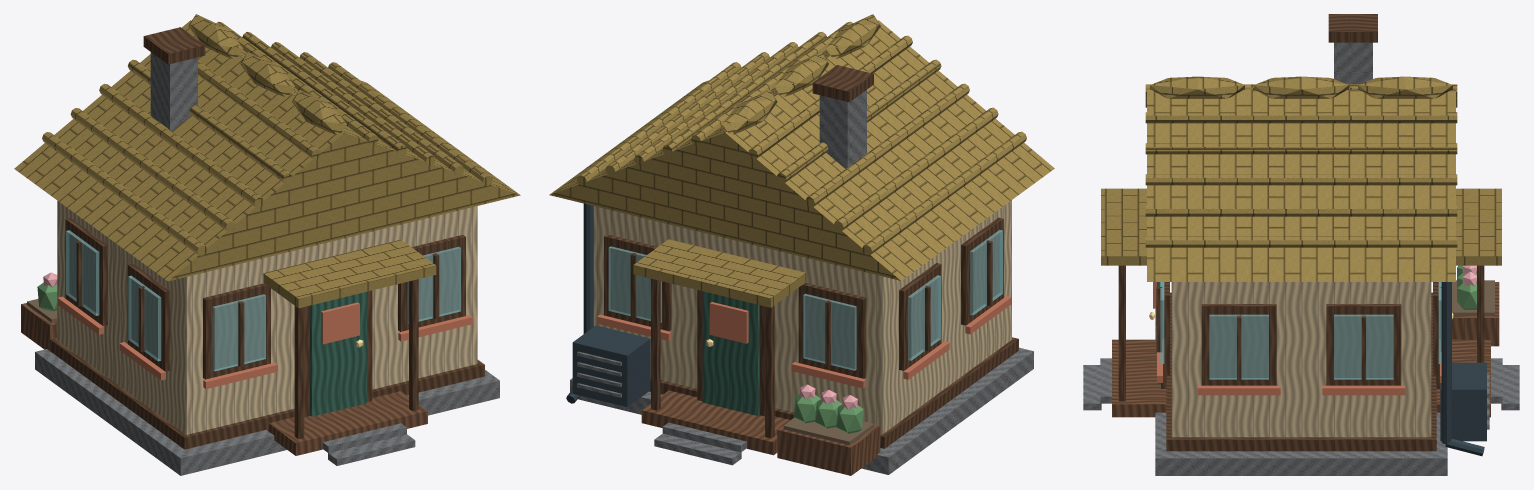
File: house_cottage_lv1.glb
The picture shows the model from 3 angles, left to right: view 1: azimuth 30°, elevation 25°; view 2: azimuth 150°, elevation 25°; view 3: azimuth 270°, elevation 25°; orthographic projection.
Parts seen in each view (by area): view 1: gable_roof, walls, foundation, front_porch_canopy, floor_trim, front_door, front_window_frame, front_deck, front_window_frame.001, front_window_glass, left_window_frame, chimney (+29 smaller); view 2: gable_roof, walls, back_porch_canopy, foundation, back_door, back_window_frame, back_ac_unit, back_deck, back_window_frame.001, back_garden_bed, back_window_glass, chimney (+35 smaller); view 3: gable_roof, walls, foundation, right_window_frame, right_window_frame.001, floor_trim, thatch_course.005, thatch_course.006, thatch_course.007, thatch_course.008, thatch_course.009, right_window_glass (+25 smaller).
Boxes of the visible parts, box(x1,y1,x2,y2) form: gable_roof: box(14, 20, 520, 281); walls: box(57, 201, 477, 434); foundation: box(35, 349, 499, 475); front_porch_canopy: box(263, 239, 436, 308); floor_trim: box(50, 338, 484, 449); front_door: box(310, 292, 366, 416); front_window_frame: box(203, 283, 270, 379); front_deck: box(267, 391, 427, 455); front_window_frame.001: box(398, 234, 465, 331); front_window_glass: box(212, 294, 265, 371); left_window_frame: box(127, 263, 170, 371); chimney: box(150, 52, 197, 130); gable_roof: box(549, 20, 1054, 280); walls: box(593, 200, 1011, 434); back_porch_canopy: box(633, 239, 806, 307); foundation: box(570, 347, 1033, 474); back_door: box(702, 291, 759, 415); back_window_frame: box(798, 283, 866, 378); back_ac_unit: box(572, 325, 650, 407); back_deck: box(641, 390, 790, 455); back_window_frame.001: box(604, 234, 671, 331); back_garden_bed: box(777, 417, 880, 475); back_window_glass: box(803, 293, 856, 370); chimney: box(819, 90, 866, 168); gable_roof: box(1147, 89, 1455, 281); walls: box(1171, 282, 1431, 437); foundation: box(1155, 308, 1447, 475); right_window_frame: box(1201, 304, 1276, 385); right_window_frame.001: box(1326, 304, 1401, 385); floor_trim: box(1166, 292, 1436, 451); thatch_course.005: box(1145, 112, 1457, 123); thatch_course.006: box(1145, 143, 1457, 154); thatch_course.007: box(1145, 174, 1457, 185); thatch_course.008: box(1145, 205, 1457, 216); thatch_course.009: box(1145, 236, 1457, 247); right_window_glass: box(1209, 314, 1268, 379).
Size of the model in its own units: 3.15 by 2.9 by 3.36.
13 materials, 7 textured.
